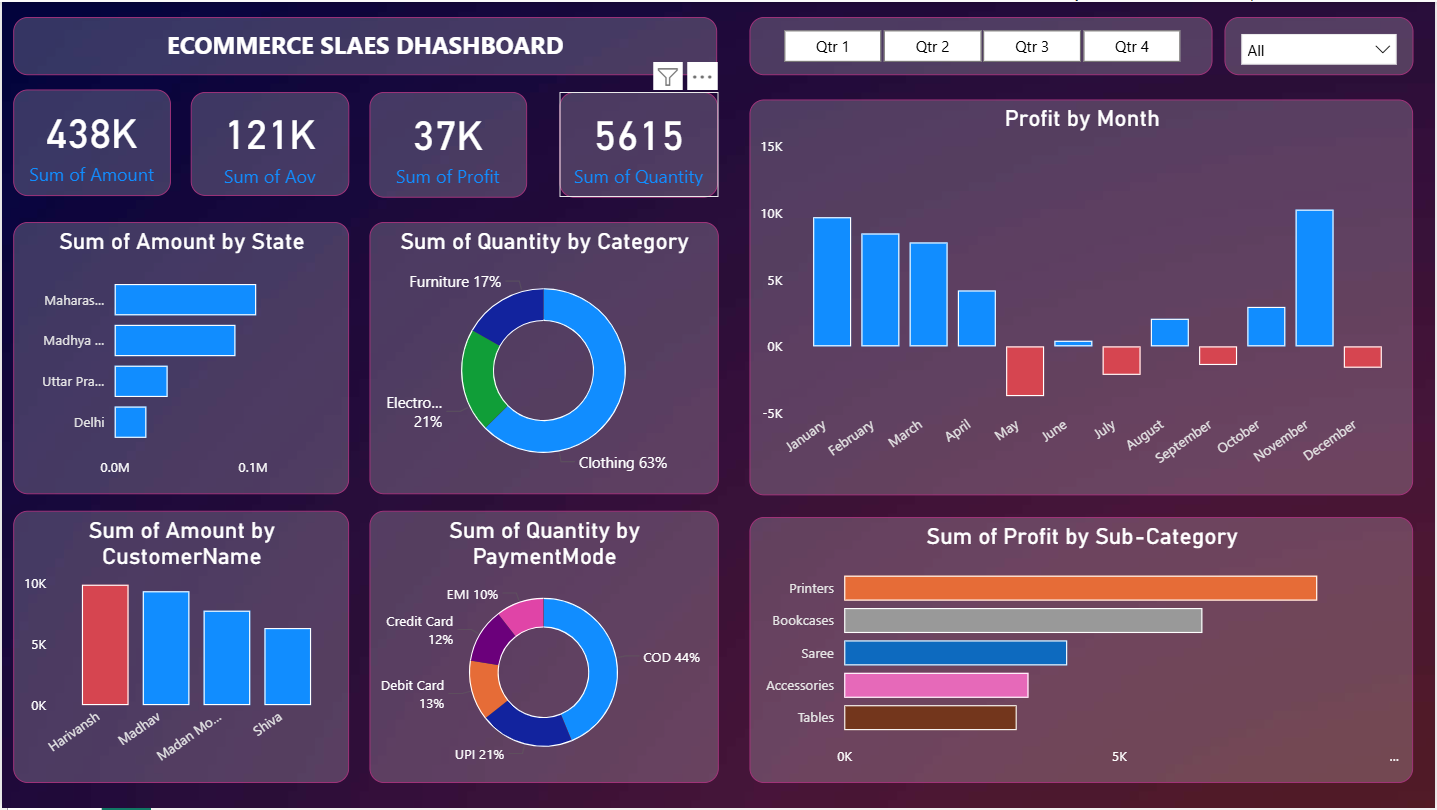

The dashboard page shown, as its layout file describes it:
{"tool":"powerbi","page":{"name":"Page 1","canvas":[1280,720],"ordinal":0},"visuals":[{"type":"textbox","box":[10.5,14,629.1,52.3],"z":0},{"type":"columnChart","title":"Profit by Month","fields":{"Category":["Orders.Order Date.Variation.Date Hierarchy.Month"],"Y":["Sum(Details.Profit)"]},"box":[667.4,87.2,593,353.5],"z":1000},{"type":"clusteredBarChart","fields":{"Category":["Details.Sub-Category"],"Y":["Sum(Details.Profit)"]},"box":[667.4,460.5,593,237.2],"z":2000},{"type":"donutChart","fields":{"Category":["Details.Category"],"Y":["Sum(Details.Quantity)"]},"box":[327.9,196.5,311.6,243],"z":3000},{"type":"donutChart","fields":{"Y":["Sum(Details.Quantity)"],"Category":["Details.PaymentMode"]},"box":[327.9,454.7,311.6,243],"z":4000},{"type":"card","fields":{"Values":["Sum(Details.Amount)"]},"box":[10,78.2,140.7,94.9],"z":5000},{"type":"card","fields":{"Values":["Sum(Details.Quantity)"]},"box":[497.7,80.2,141.9,94.2],"z":6000},{"type":"card","fields":{"Values":["Sum(Details.Profit)"]},"box":[327.9,80.2,140.7,94.2],"z":7000},{"type":"card","fields":{"Values":["Sum(Details.Aov)"]},"box":[168.6,80.2,141.9,93],"z":8000},{"type":"barChart","fields":{"Category":["Orders.State"],"Y":["Sum(Details.Amount)"]},"box":[10.5,196.5,300,243],"z":9000},{"type":"columnChart","fields":{"Category":["Orders.CustomerName"],"Y":["Sum(Details.Amount)"]},"box":[10.5,454.7,300,243],"z":10000},{"type":"slicer","fields":{"Values":["Orders.Order Date.Variation.Date Hierarchy.Quarter"]},"box":[667.4,14,414,52.3],"z":11000},{"type":"slicer","fields":{"Values":["Orders.State"]},"box":[1091.9,14,168.6,52.3],"z":12000}]}

Visuals, with their boxes in screenshot pixels (x1, y1, x2, y2), scaled from the page's 1280x720 canvas onto the 1437x810 screenshot:
textbox: crop(12, 16, 718, 75)
"Profit by Month" columnChart: crop(749, 98, 1415, 496)
clusteredBarChart - Details.Sub-Category x Sum(Details.Profit): crop(749, 518, 1415, 785)
donutChart - Details.Category x Sum(Details.Quantity): crop(368, 221, 718, 494)
donutChart - Sum(Details.Quantity) x Details.PaymentMode: crop(368, 512, 718, 785)
card - Sum(Details.Amount): crop(11, 88, 169, 195)
card - Sum(Details.Quantity): crop(559, 90, 718, 196)
card - Sum(Details.Profit): crop(368, 90, 526, 196)
card - Sum(Details.Aov): crop(189, 90, 349, 195)
barChart - Orders.State x Sum(Details.Amount): crop(12, 221, 349, 494)
columnChart - Orders.CustomerName x Sum(Details.Amount): crop(12, 512, 349, 785)
slicer - Orders.Order Date.Variation.Date Hierarchy.Quarter: crop(749, 16, 1214, 75)
slicer - Orders.State: crop(1226, 16, 1415, 75)
